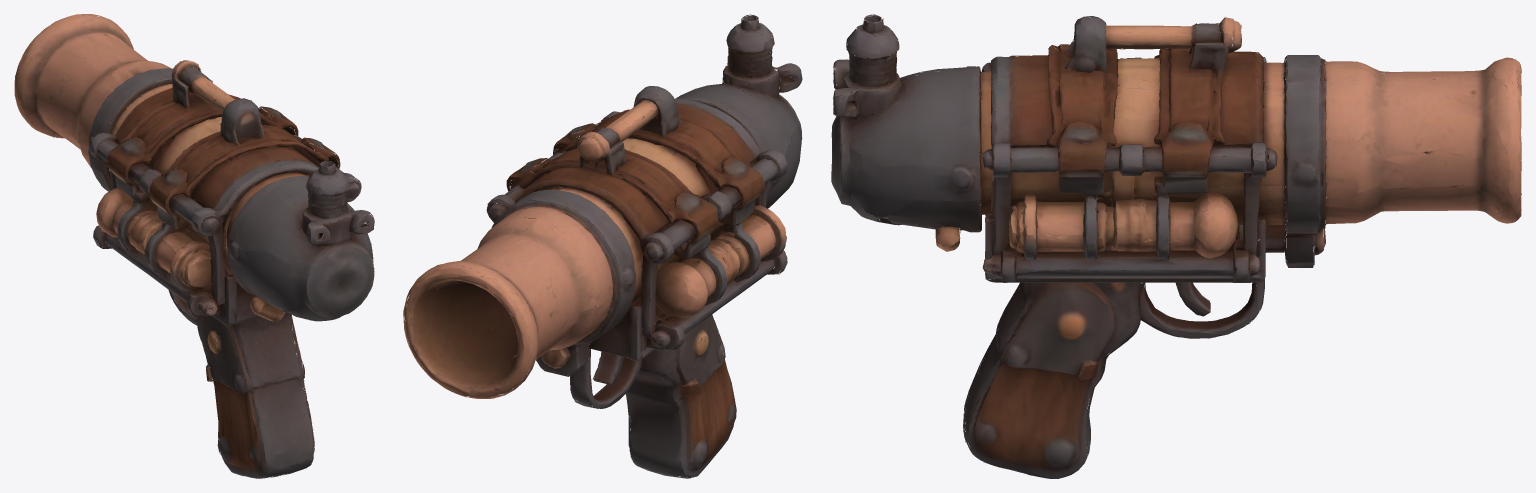
The model's file is spore_launcher.glb.
3 views of the same model, side by side, from view 1: azimuth 30°, elevation 25°; view 2: azimuth 150°, elevation 25°; view 3: azimuth 270°, elevation 25° (orthographic). The views are drawn at different scales.
Parts seen in each view (by area): view 1: body; view 2: body; view 3: body.
Part boxes in pixels (x1=…): body: x1=14, y1=14, x2=374, y2=478; body: x1=403, y1=14, x2=802, y2=478; body: x1=831, y1=14, x2=1521, y2=478.
Size of the model in its own units: 0.1648 by 0.299 by 0.4162.
1 material, 1 textured.
